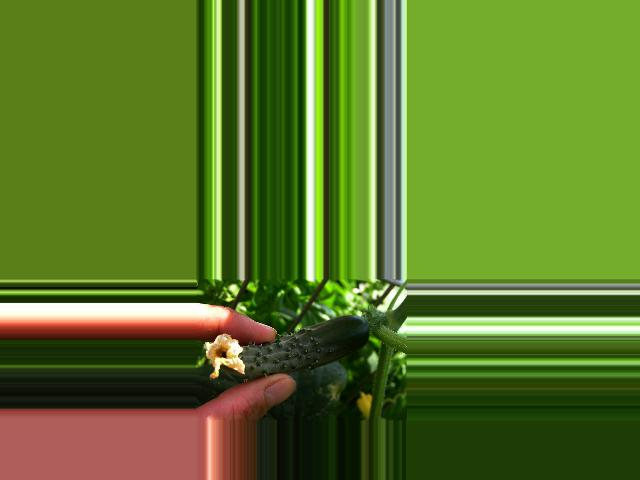cucumber: (205, 315, 370, 379)
